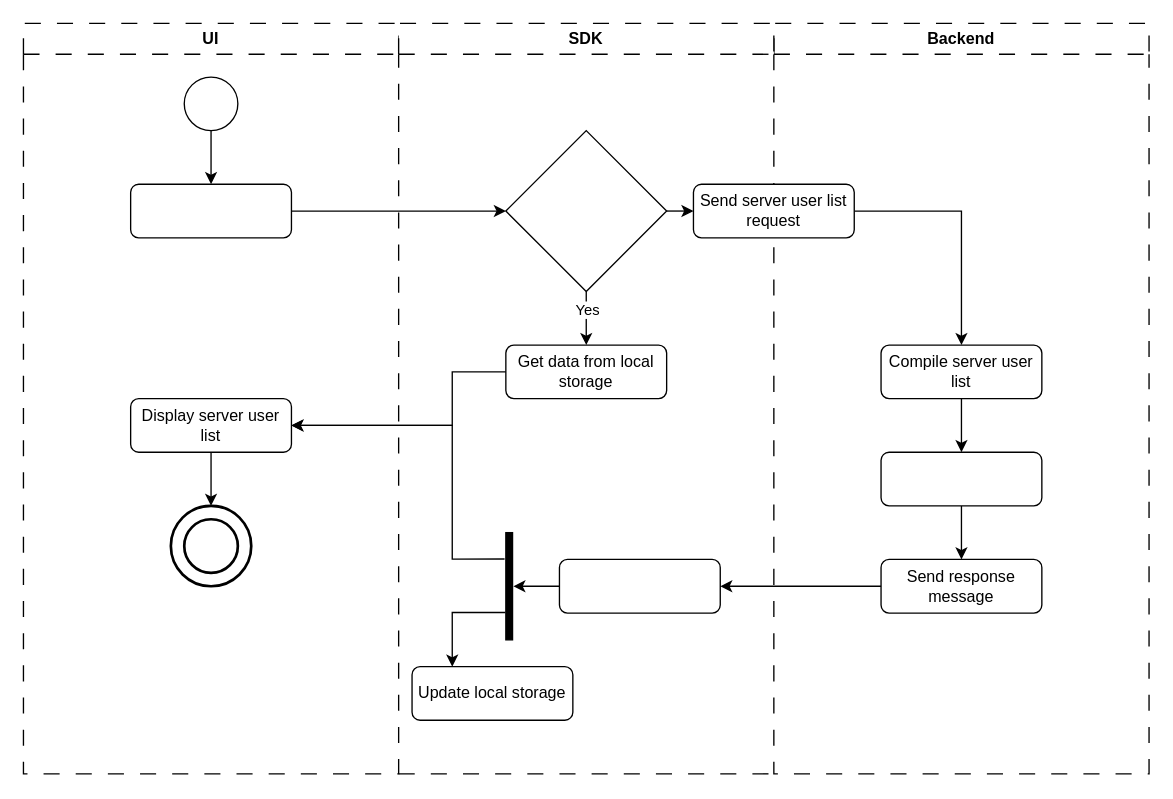
The diagram is 1173 pixels wide and 799 high, and some of its shapes have lost their labels. The box of each missing label's shape, as (x1, y1, x2, y2) in pixels:
Create response message: (880, 451, 1042, 506)
Decode response message: (558, 558, 720, 613)
Have list locally?: (505, 129, 667, 291)
Press server user list button: (129, 183, 291, 238)
